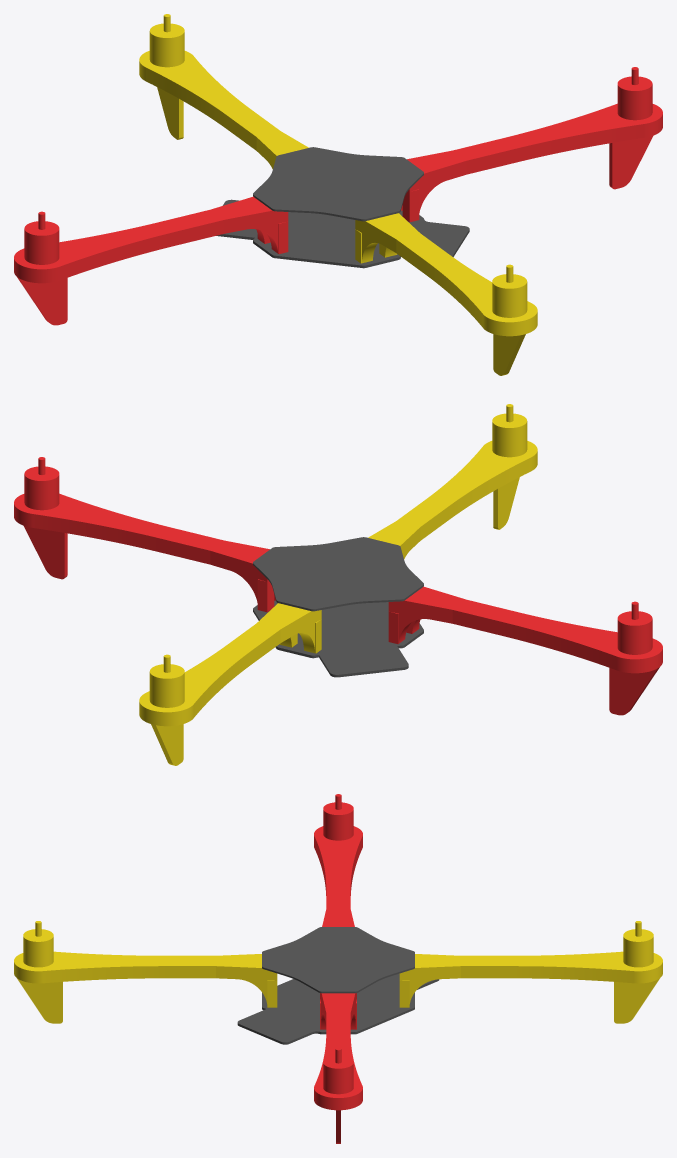
Rendered from drone_base.dae.
3 views of the same model, one above another, from view 1: azimuth 30°, elevation 25°; view 2: azimuth 150°, elevation 25°; view 3: azimuth 270°, elevation 25° (orthographic). The views are drawn at different scales.
Visible parts, largest first — view 1: Base v5; view 2: Base v5; view 3: Base v5.
Boxes of the visible parts, bbox=[...] form: Base v5: bbox=[14, 14, 662, 375]; Base v5: bbox=[14, 404, 662, 765]; Base v5: bbox=[14, 794, 662, 1143].
Bounding box in the file's own units: 53 × 53 × 9.05.
